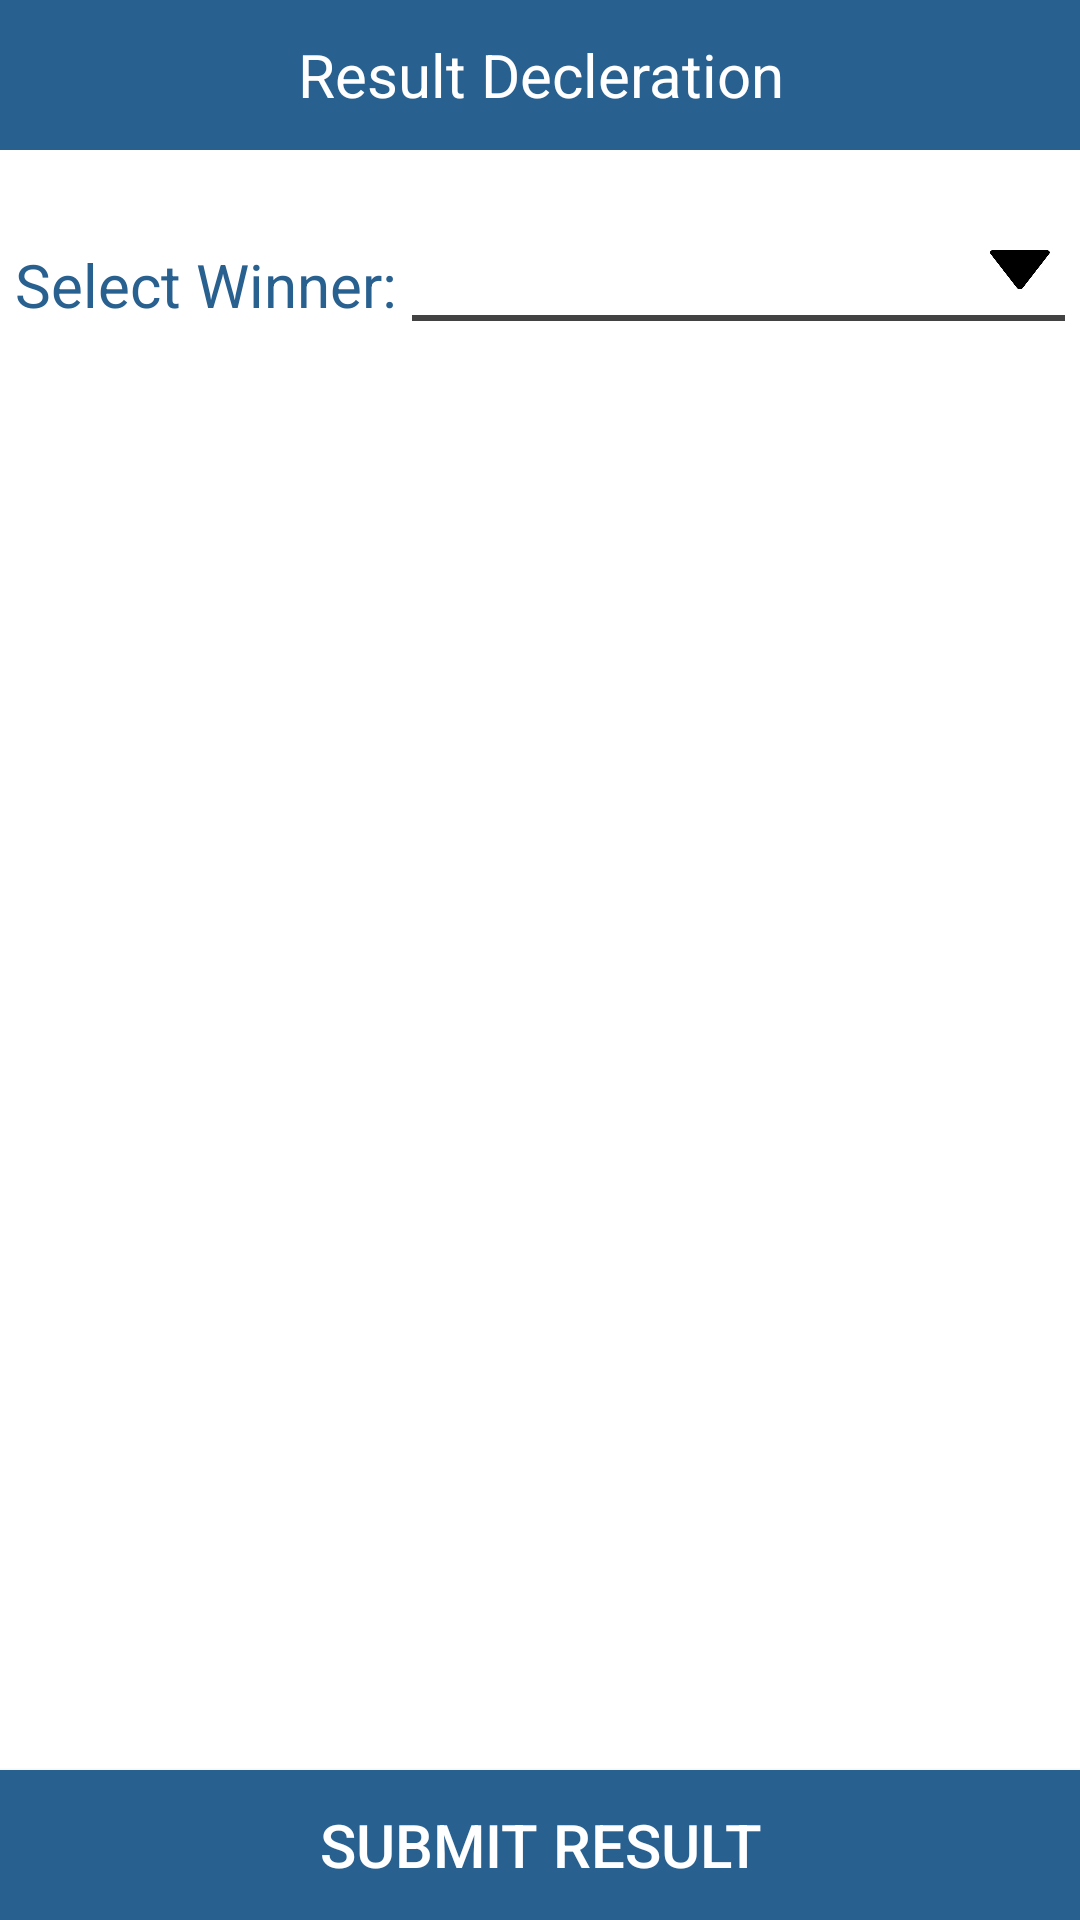

Where icons sit on this 1080x1920 app screen, as box(x1, y1, x2, y2):
dropdown: box(990, 250, 1050, 289)
